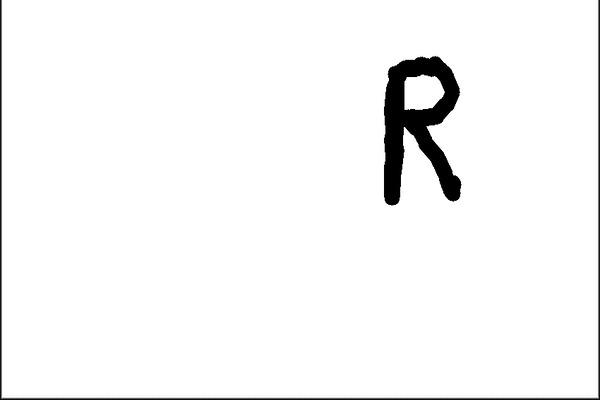R: (369, 44, 479, 211)
